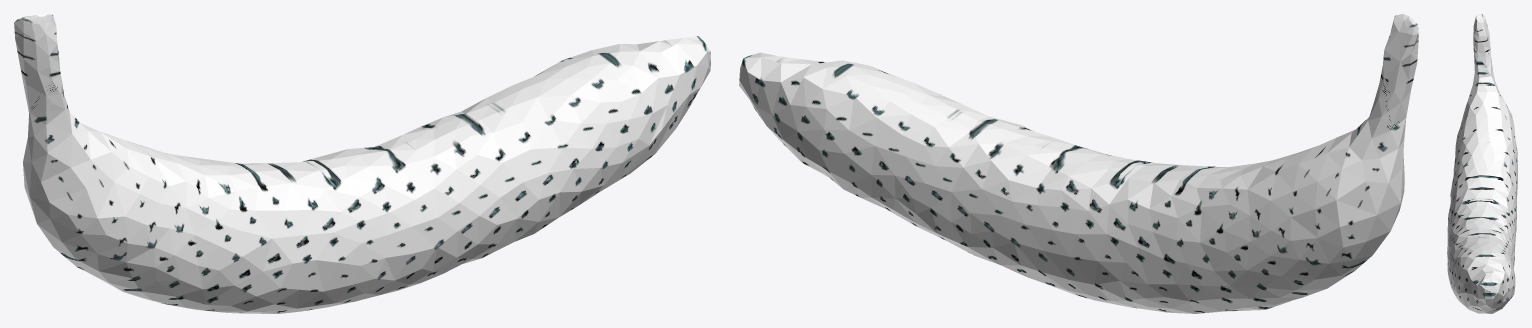
The model's file is banana_textured.obj.
3 views of the same model, side by side, from view 1: azimuth 30°, elevation 25°; view 2: azimuth 150°, elevation 25°; view 3: azimuth 270°, elevation 25° (orthographic). The views are drawn at different scales.
Bounding box in the file's own units: 0.2277 × 0.113 × 0.0394.
Materials: 1 (1 with a texture image).
